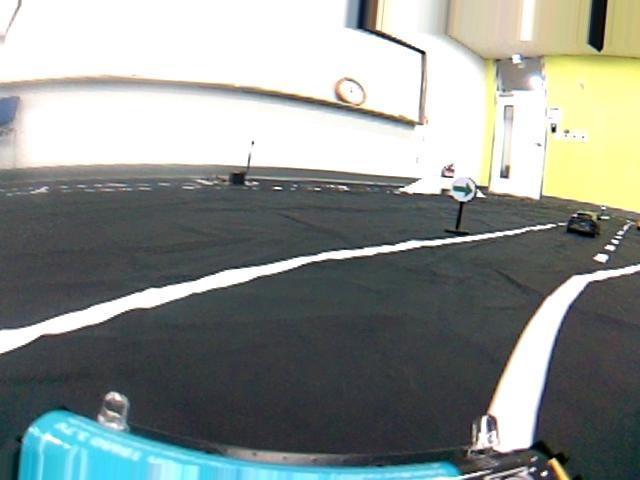car: (565, 208, 603, 238)
right: (4, 241, 640, 480)
sign_right: (452, 178, 476, 201)
